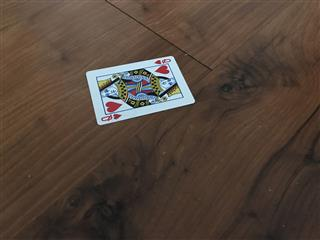QueenOfHearts: (85, 55, 195, 125)
